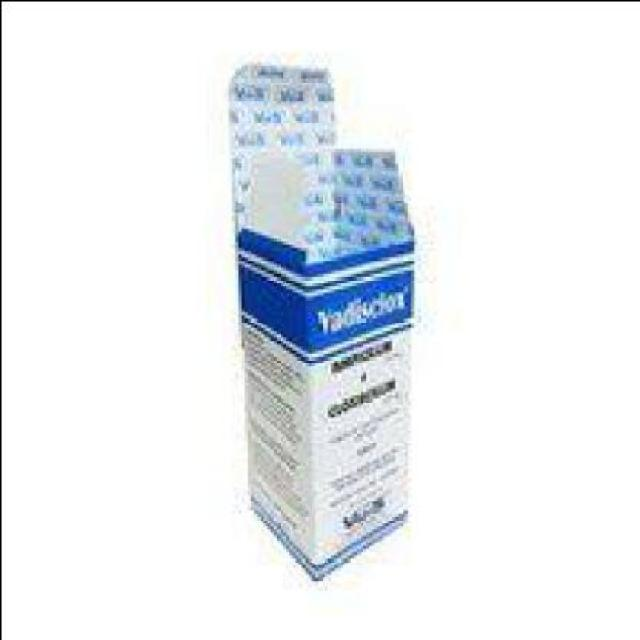CARDBOARD: (227, 58, 410, 576)
